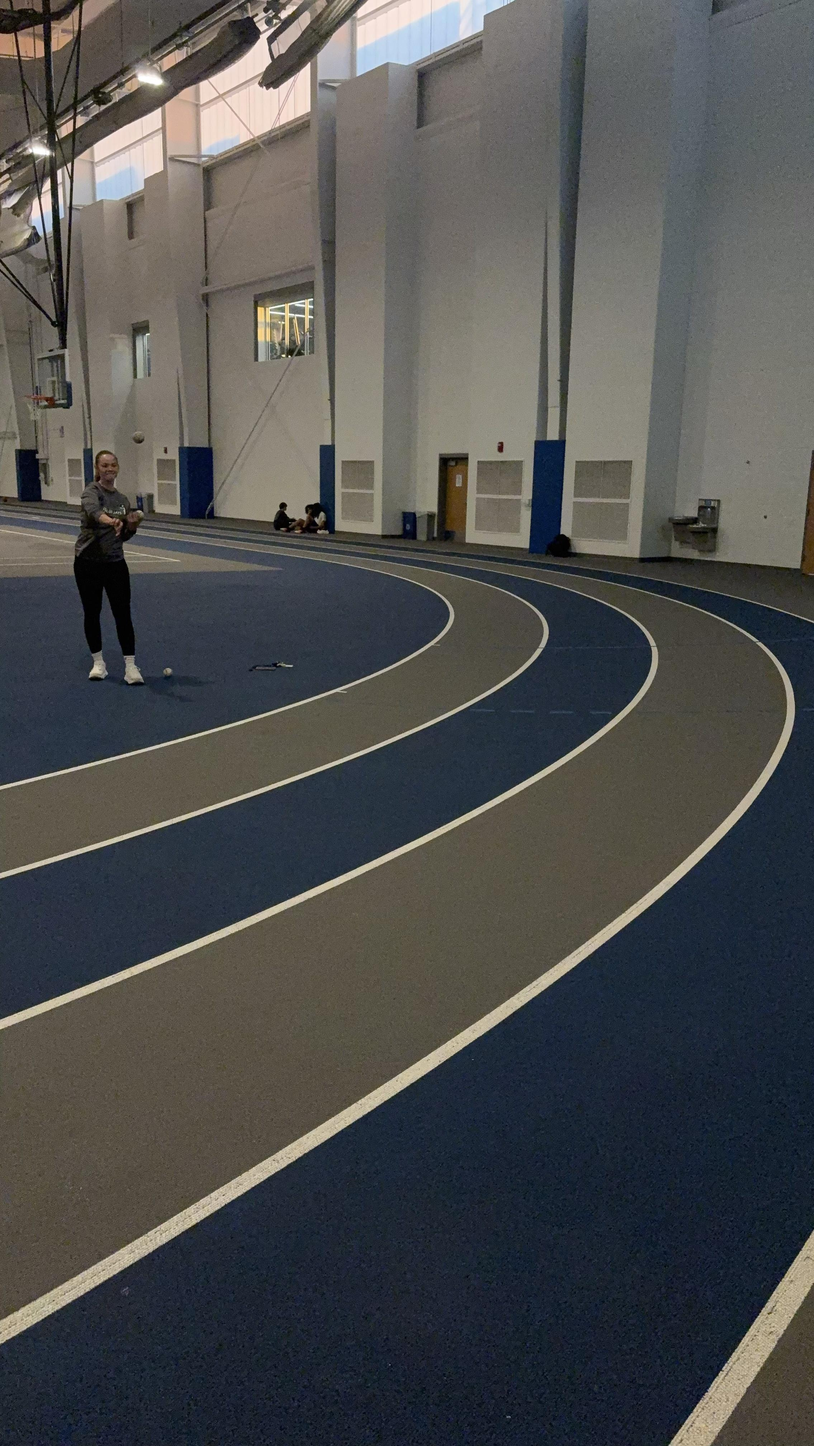Baseball: (130, 428, 146, 446), (162, 666, 175, 677)
